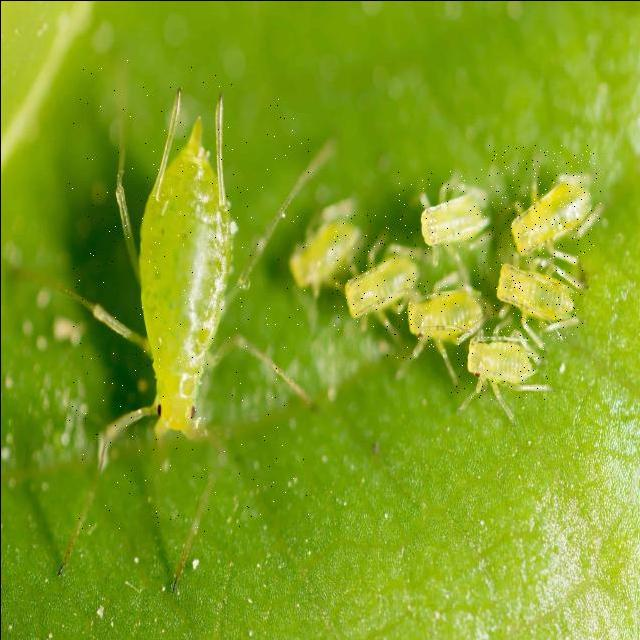aphid: (68, 59, 308, 531), (487, 144, 602, 264), (331, 213, 417, 329), (480, 244, 582, 338), (385, 268, 486, 358), (395, 168, 494, 258), (449, 311, 547, 399)
